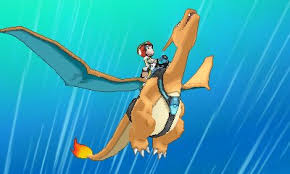charizard: (1, 6, 215, 165)
